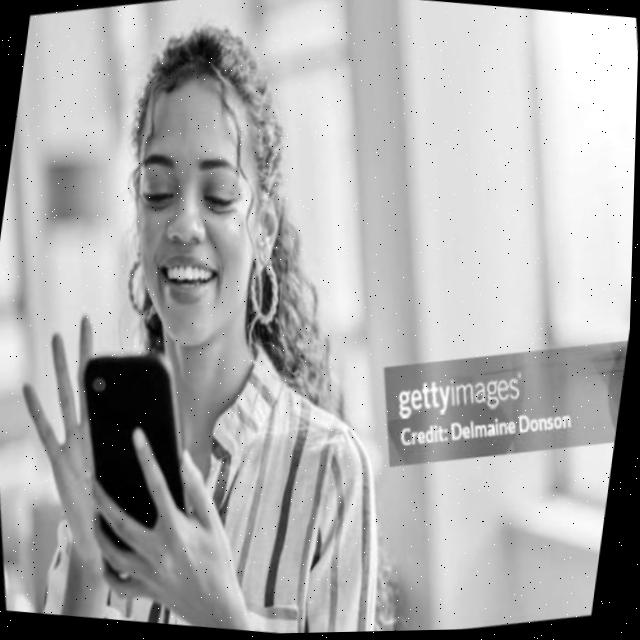phone: (55, 336, 223, 594)
